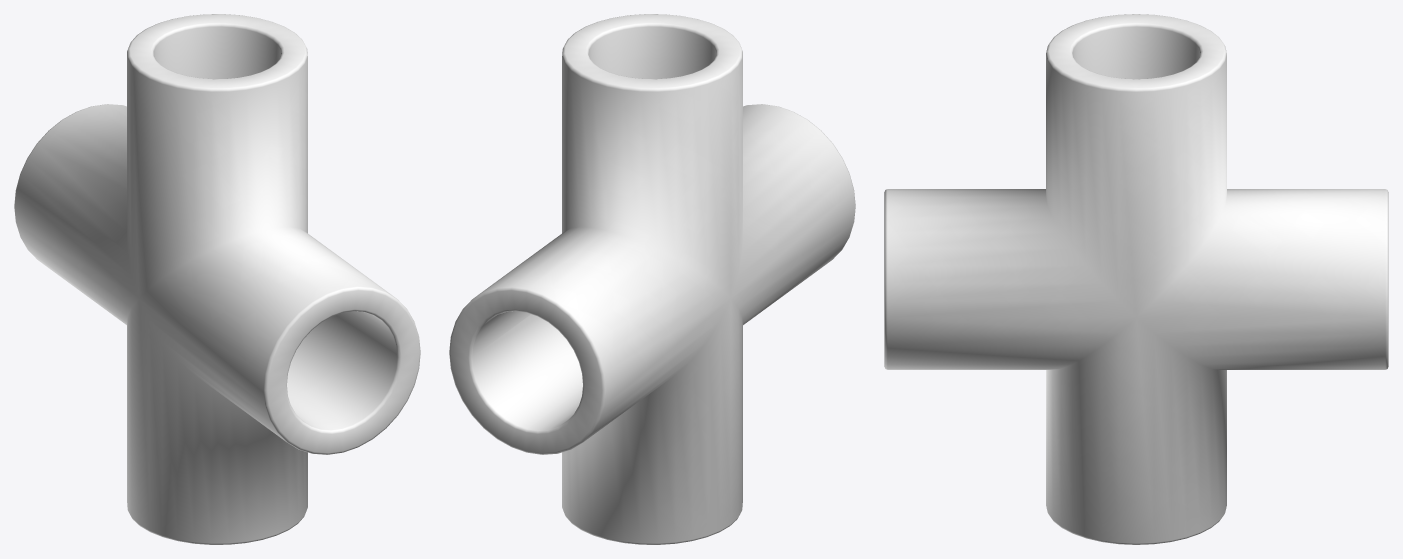
File: cross.glb
3 renders of one model, left to right at view 1: azimuth 30°, elevation 25°; view 2: azimuth 150°, elevation 25°; view 3: azimuth 270°, elevation 25°, orthographic.
Parts seen in each view (by area): view 1: Object_3; view 2: Object_3; view 3: Object_3.
Part boxes in pixels (box(x1,y1,x2,y2)): Object_3: box(14, 14, 420, 544); Object_3: box(449, 14, 855, 544); Object_3: box(884, 14, 1388, 544).
Size of the model in its own units: 0.7183 by 2 by 2.
1 material, 1 textured.
